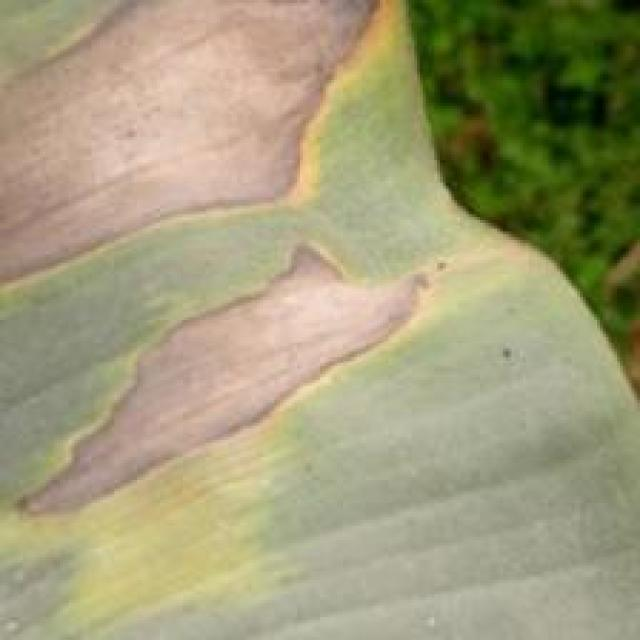Bacterial_spot: (6, 237, 454, 540), (0, 0, 446, 280)
